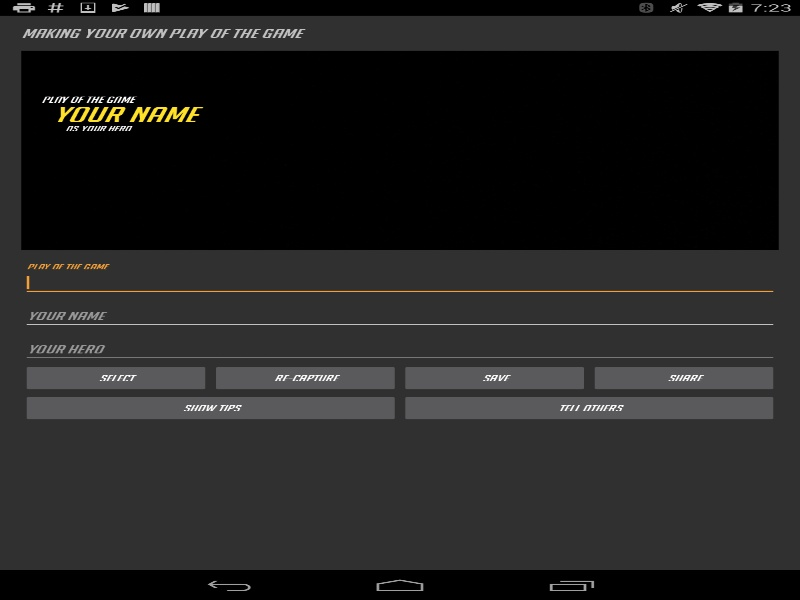Button: (21, 393, 400, 423), (400, 393, 778, 423), (210, 363, 400, 393), (21, 363, 210, 393), (400, 363, 589, 393), (589, 363, 778, 393)
Input: (21, 269, 778, 296), (21, 336, 778, 363), (21, 303, 778, 329)
